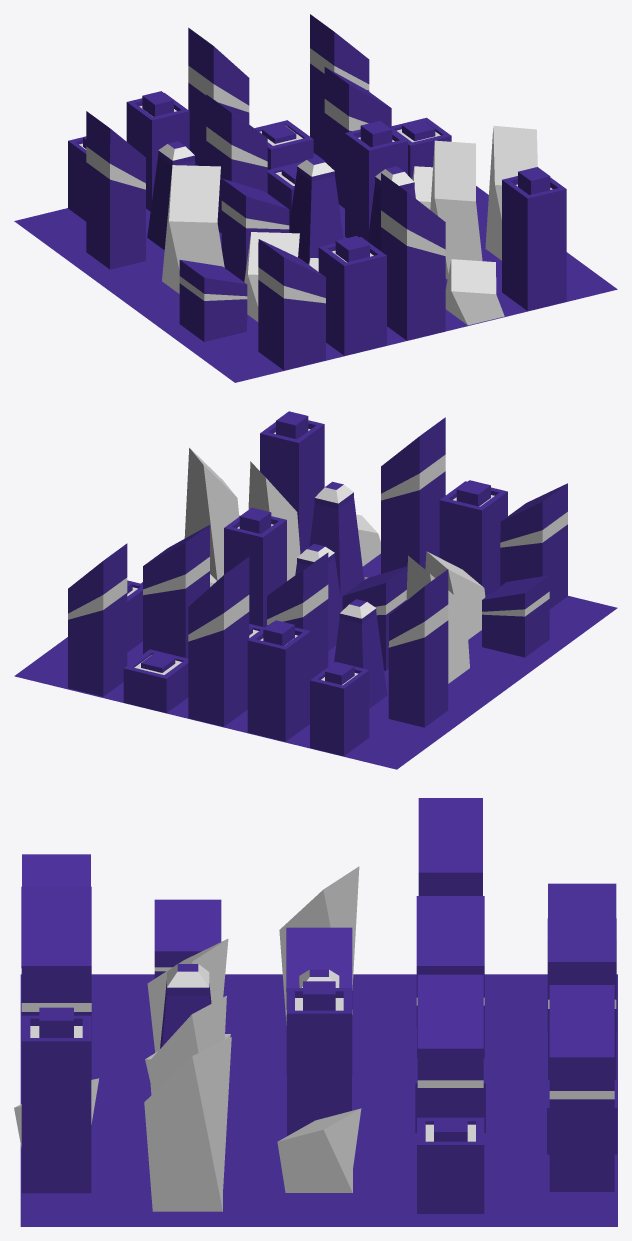
The model's file is house.fbx.
3 views of the same model, one above another, from view 1: azimuth 30°, elevation 25°; view 2: azimuth 150°, elevation 25°; view 3: azimuth 270°, elevation 25° (orthographic). The views are drawn at different scales.
Visible parts, largest first — view 1: Plane; view 2: Plane; view 3: Plane.
Part boxes in pixels (x1,y1,x2,y2): Plane: (14,14,617,382); Plane: (14,411,617,769); Plane: (14,798,617,1226).
Size of the model in its own units: 5074 by 1937 by 5132.
